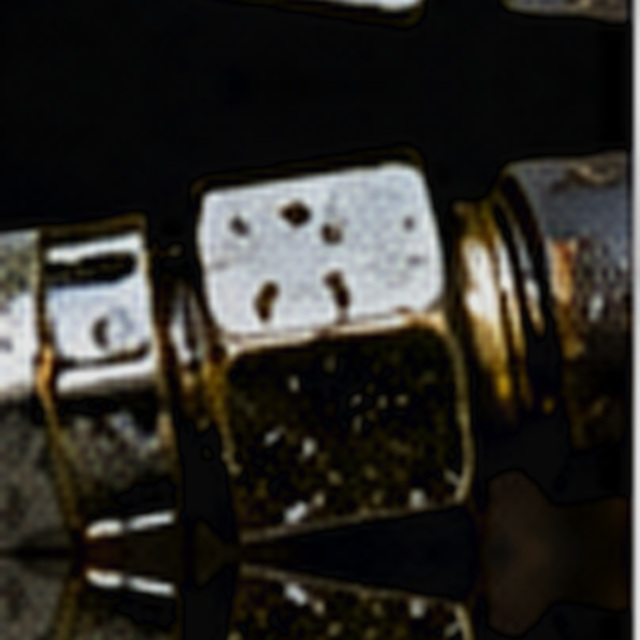hydraulic_oil_leak: (183, 250, 492, 437)
